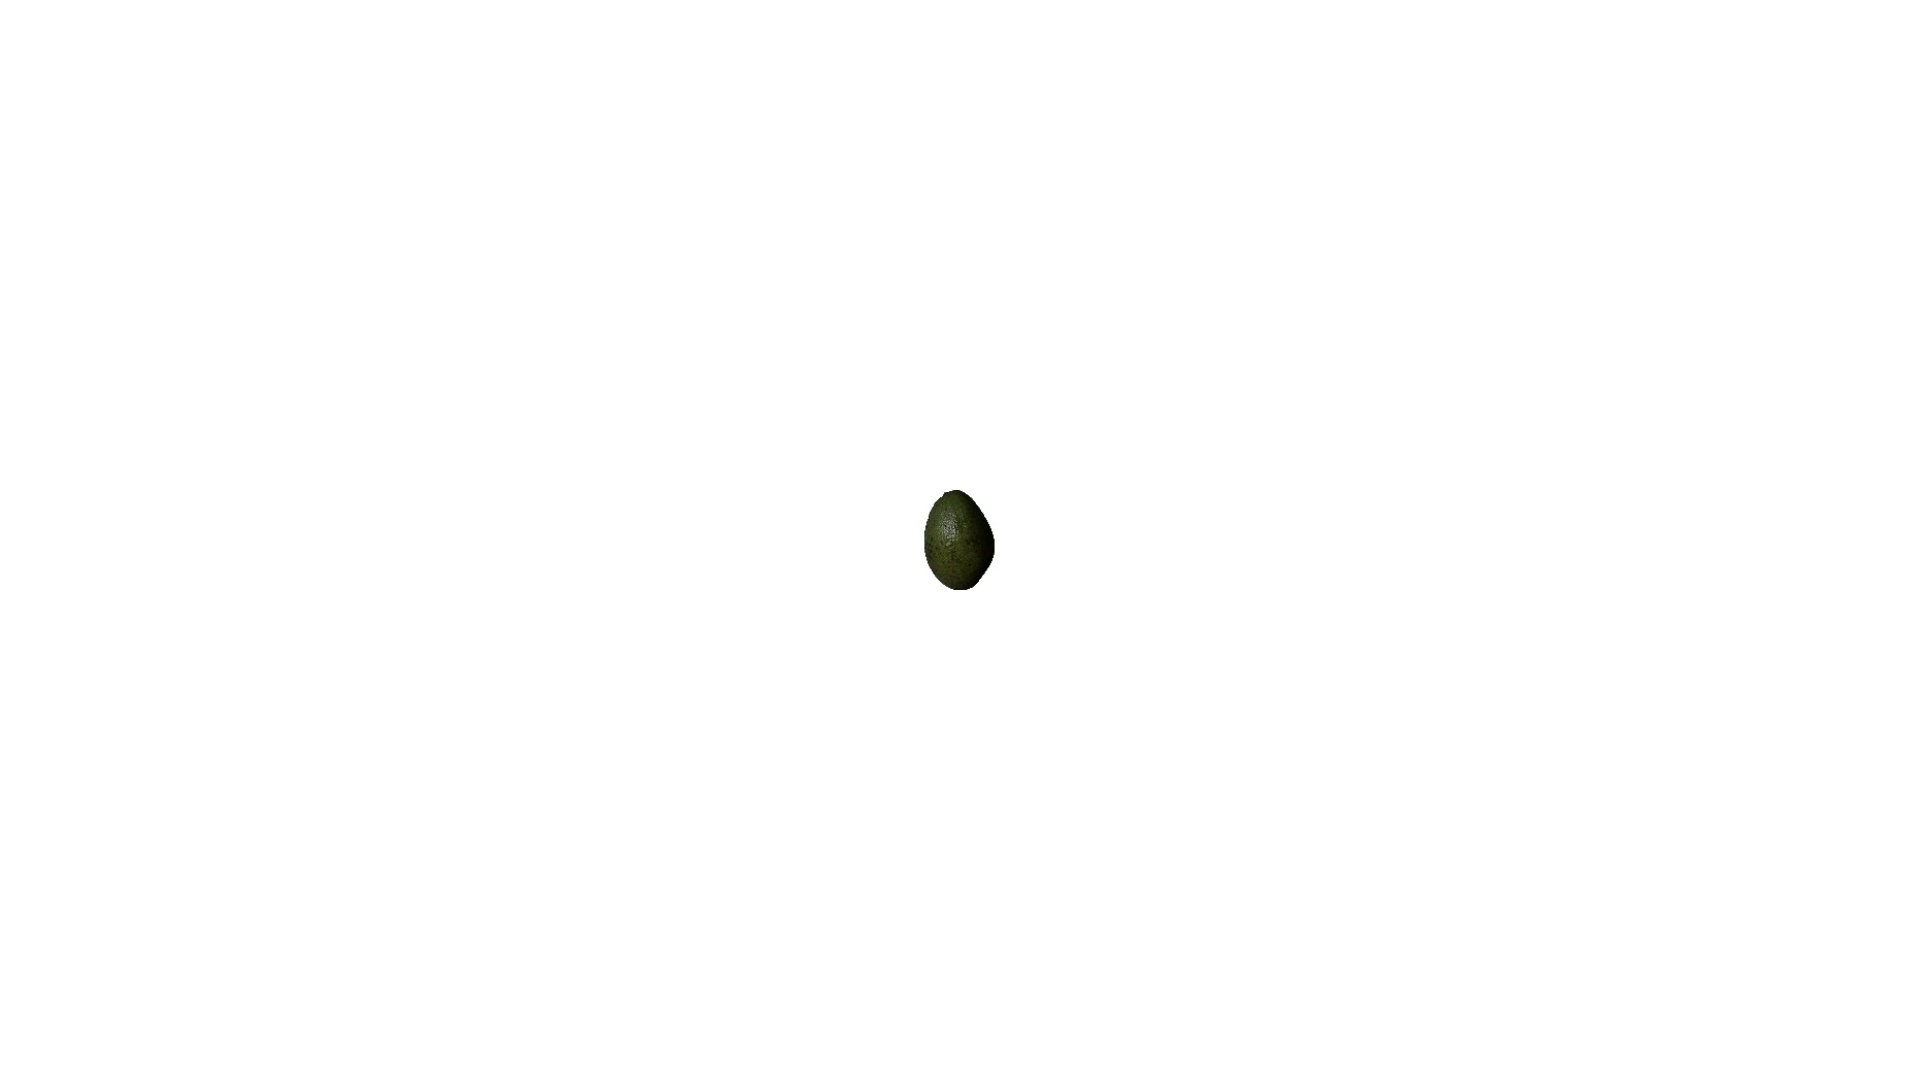abacate: (920, 491, 1000, 592)
